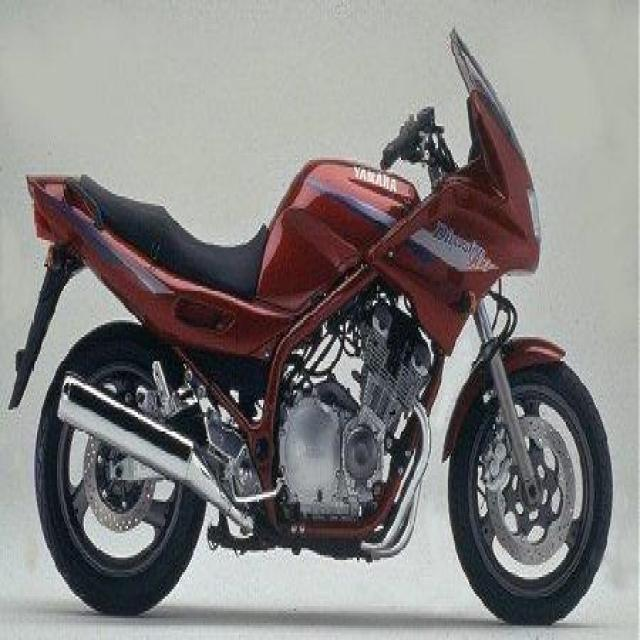Motorcycle: (16, 40, 614, 626)
